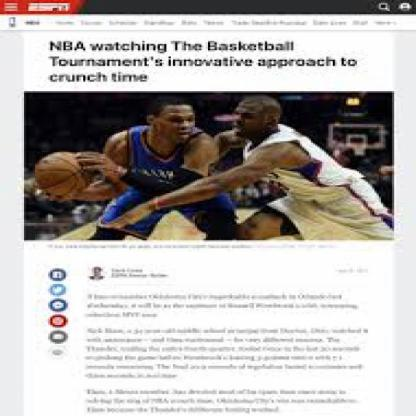basketball: (35, 151, 88, 196)
